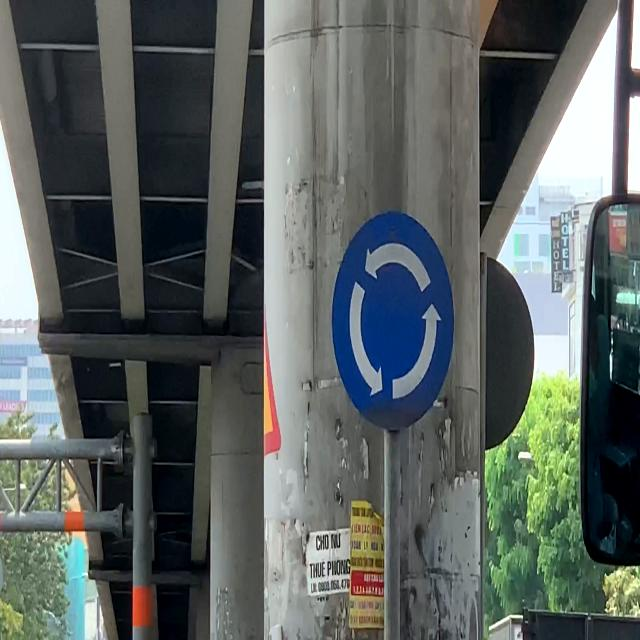R.303: (331, 213, 458, 435)
